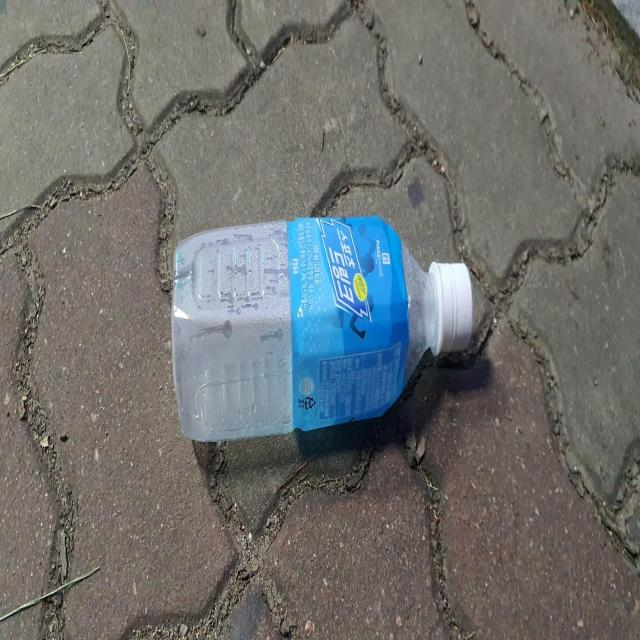plastic: (171, 215, 473, 441)
